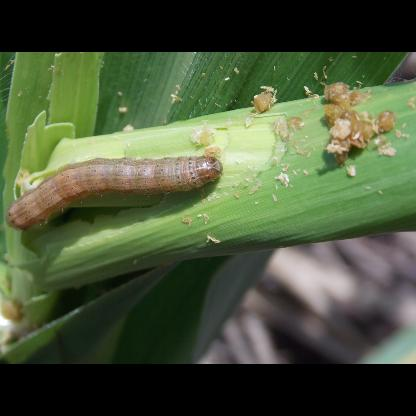Fall Armyworm Larvae: (2, 152, 228, 236)
